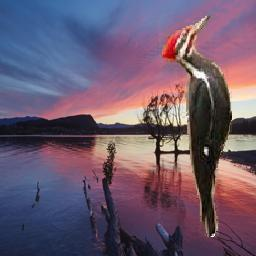Woodpecker: (160, 13, 233, 238)
